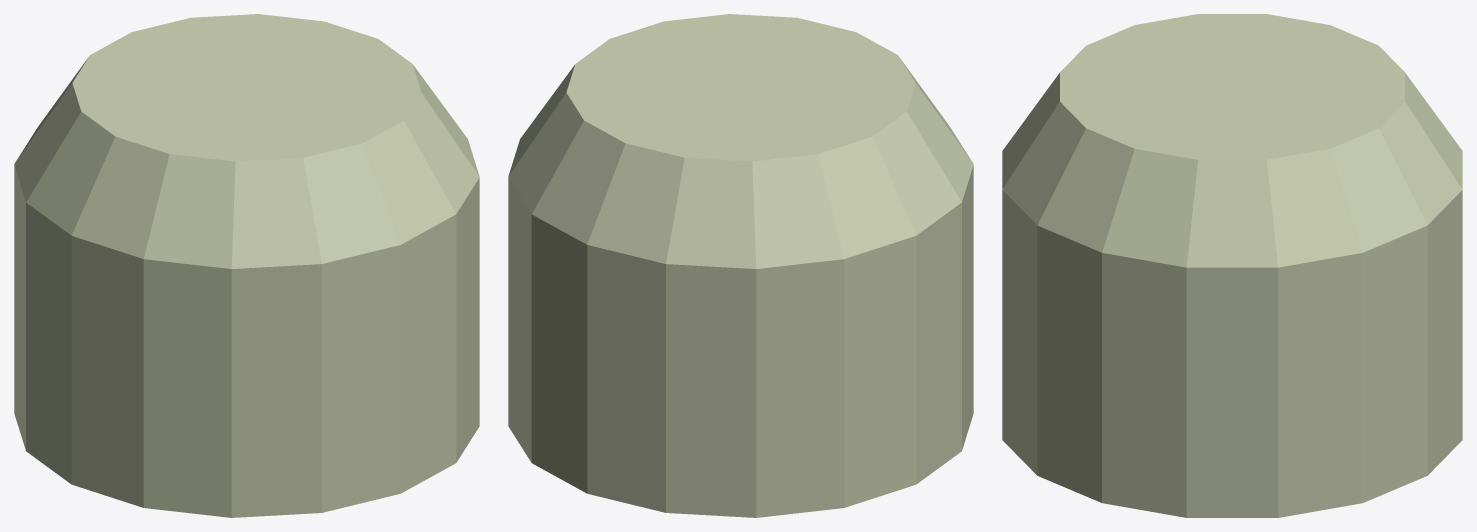
Rendered from Vega_Habitation_2_1_Collider.obj.
3 renders of one model, left to right at view 1: azimuth 30°, elevation 25°; view 2: azimuth 150°, elevation 25°; view 3: azimuth 270°, elevation 25°, orthographic.
Parts seen in each view (by area): view 1: Vega_Habitation_2_1_Collider; view 2: Vega_Habitation_2_1_Collider; view 3: Vega_Habitation_2_1_Collider.
Boxes of the visible parts, x1,y1,x2,y2 form: Vega_Habitation_2_1_Collider: (14, 14, 479, 517); Vega_Habitation_2_1_Collider: (508, 14, 973, 517); Vega_Habitation_2_1_Collider: (1002, 14, 1462, 517).
Size of the model in its own units: 1.25 by 1 by 1.25.
